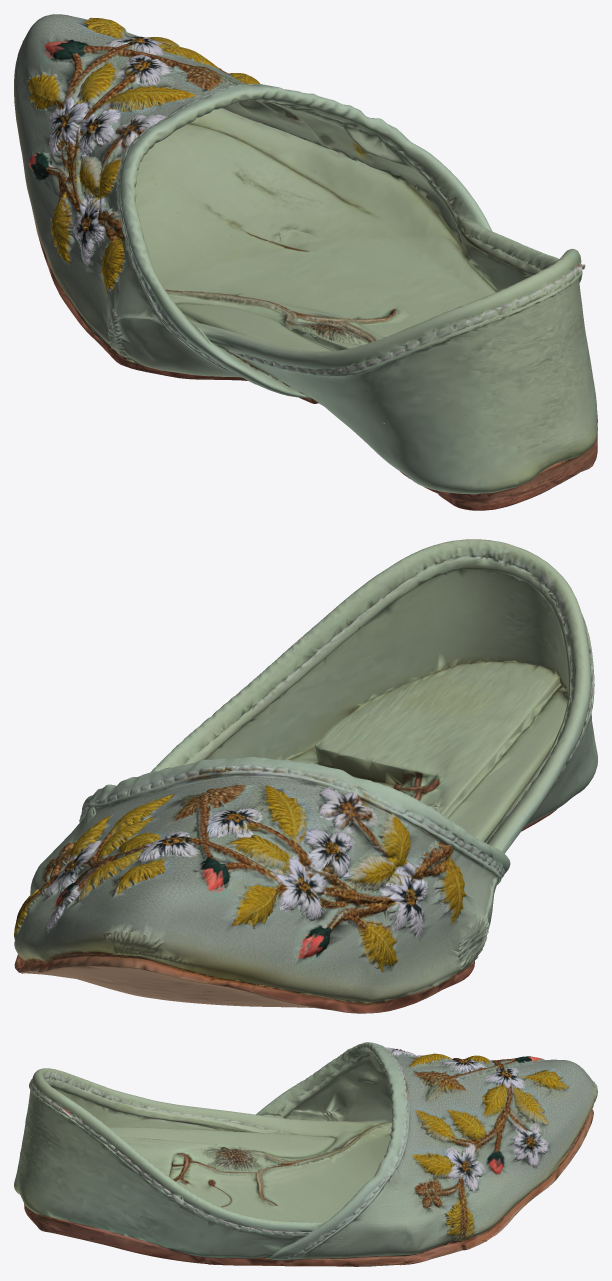
The model's file is mint-embroidered-khussa.glb.
The picture shows the model from 3 angles, top to bottom: view 1: azimuth 30°, elevation 25°; view 2: azimuth 150°, elevation 25°; view 3: azimuth 270°, elevation 25°; orthographic projection. The views are drawn at different scales.
Parts seen in each view (by area): view 1: tripo_node_b136e9ee-269e-422d-a207-2a58367f7c59; view 2: tripo_node_b136e9ee-269e-422d-a207-2a58367f7c59; view 3: tripo_node_b136e9ee-269e-422d-a207-2a58367f7c59.
Boxes of the visible parts, x1,y1,x2,y2 form: tripo_node_b136e9ee-269e-422d-a207-2a58367f7c59: (14,14,597,510); tripo_node_b136e9ee-269e-422d-a207-2a58367f7c59: (14,539,597,1013); tripo_node_b136e9ee-269e-422d-a207-2a58367f7c59: (14,1042,597,1266).
Bounding box in the file's own units: 0.4754 × 0.2656 × 0.9783.
1 material, 1 textured.
